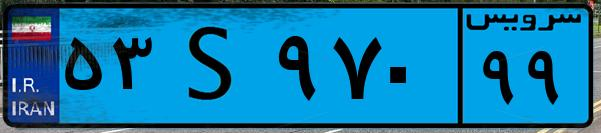0: (385, 28, 445, 110)
3: (110, 28, 158, 98)
5: (57, 26, 110, 100)
7: (330, 28, 385, 110)
9: (270, 28, 330, 110), (475, 38, 525, 113), (525, 38, 570, 115)
S: (158, 12, 270, 120)
